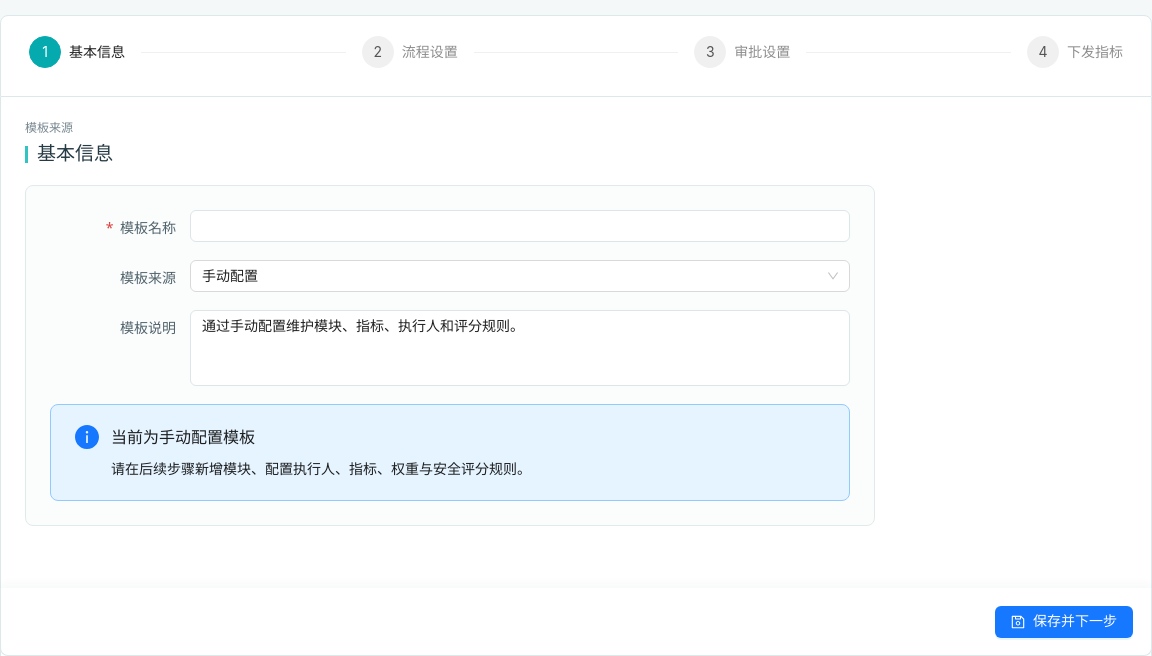
it: PerformanceTemplateEditorPage › keeps executor filters independent between process and approval settings
The width and height of the screenshot is (1152, 656).
Click the text "流程设置" at (438, 52), box [402,36,474,68]
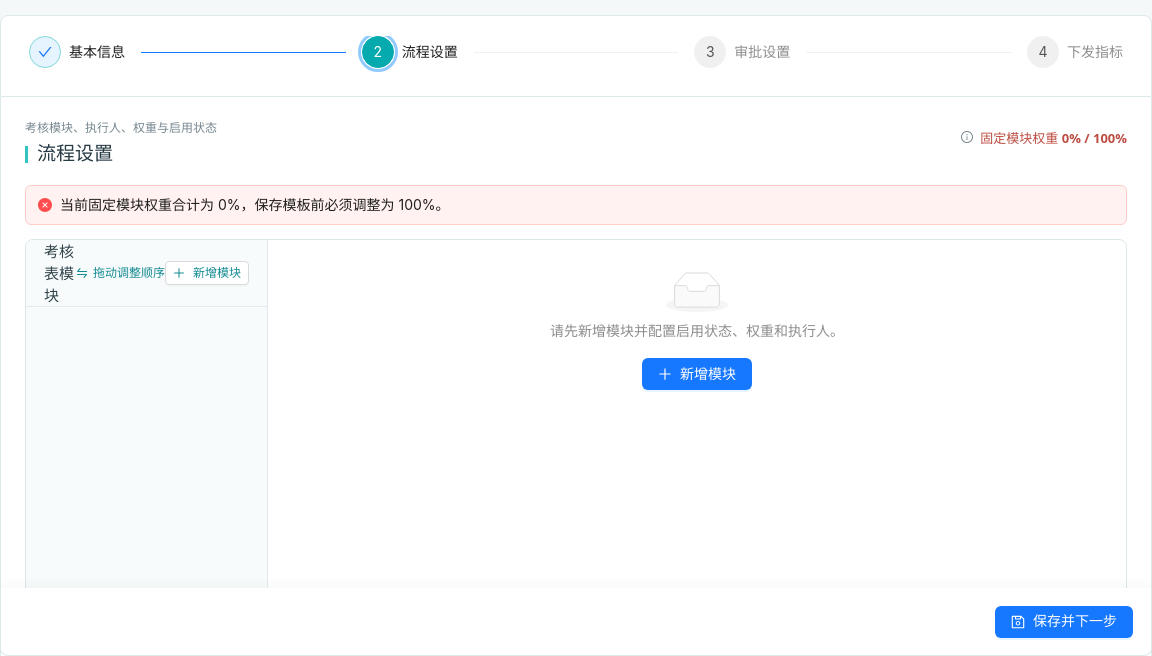
Click the button "新增模块" next to "拖动调整顺序" at (207, 273), box [165,261,249,285]
(page scrolled)
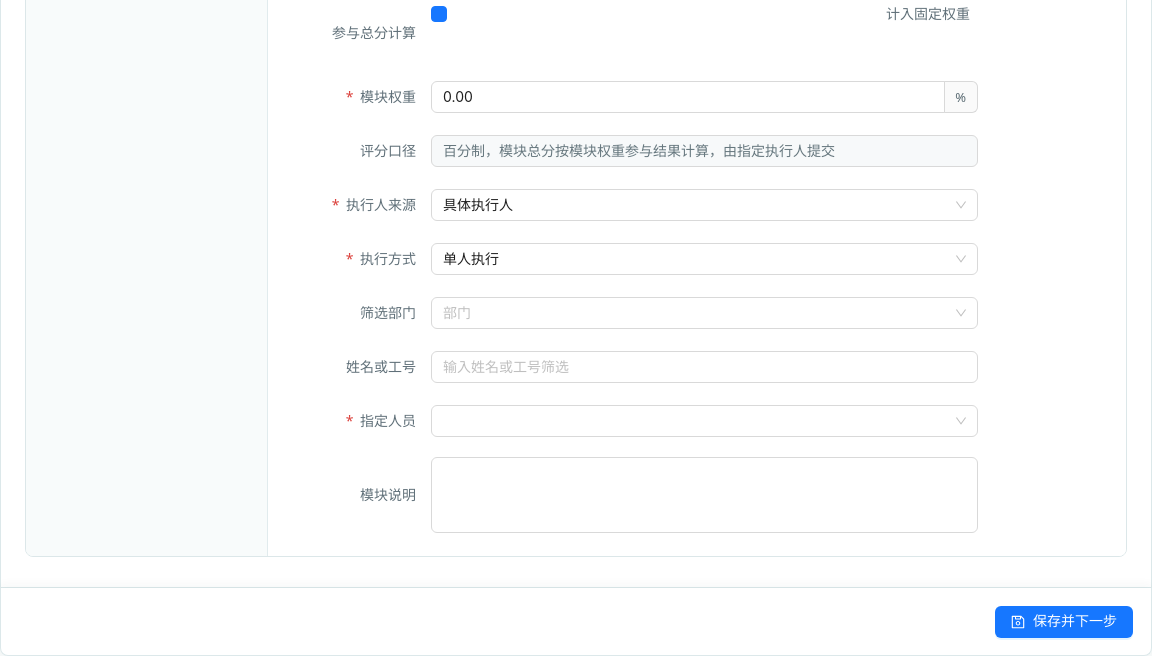
Type "甲" into the field named "搜索考核执行人" at (696, 367), box [443,356,950,378]
(page scrolled)
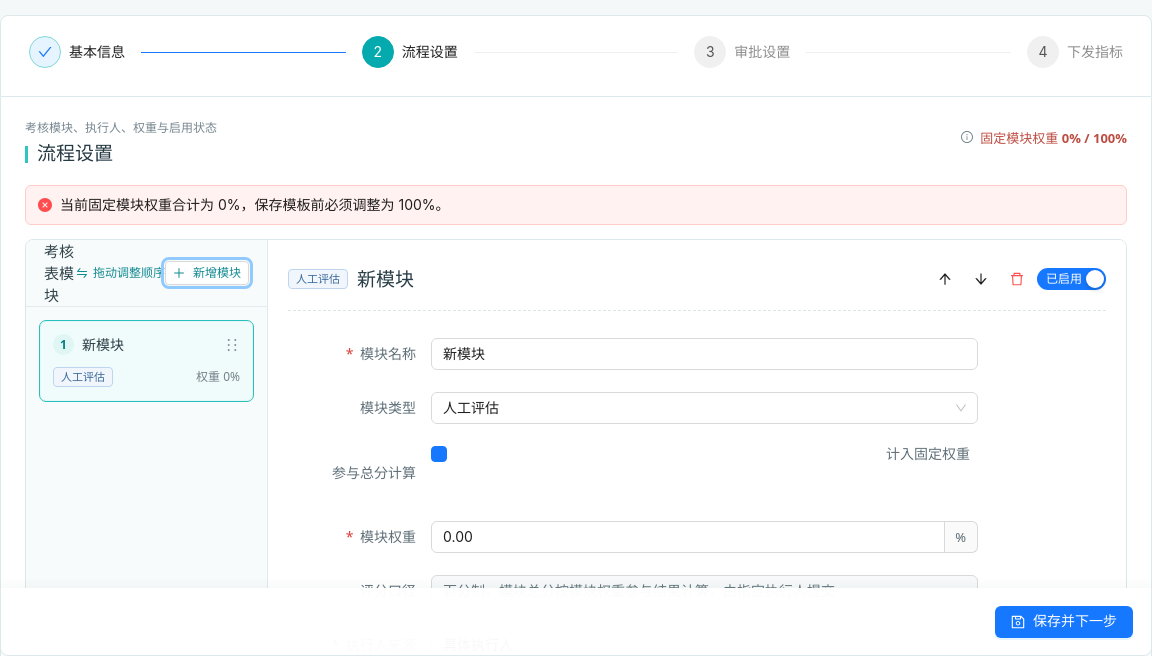
Click the text "审批设置" at (770, 52), box [734,36,806,68]
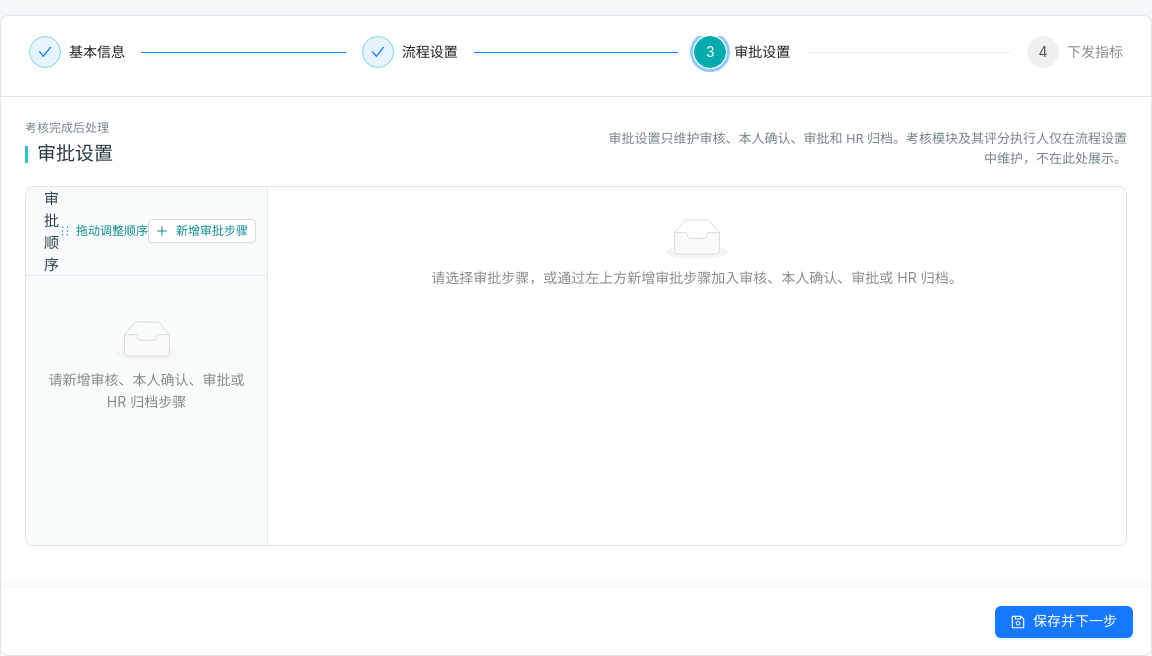
Click the button "新增审批步骤" at (202, 231), box [148,219,256,243]
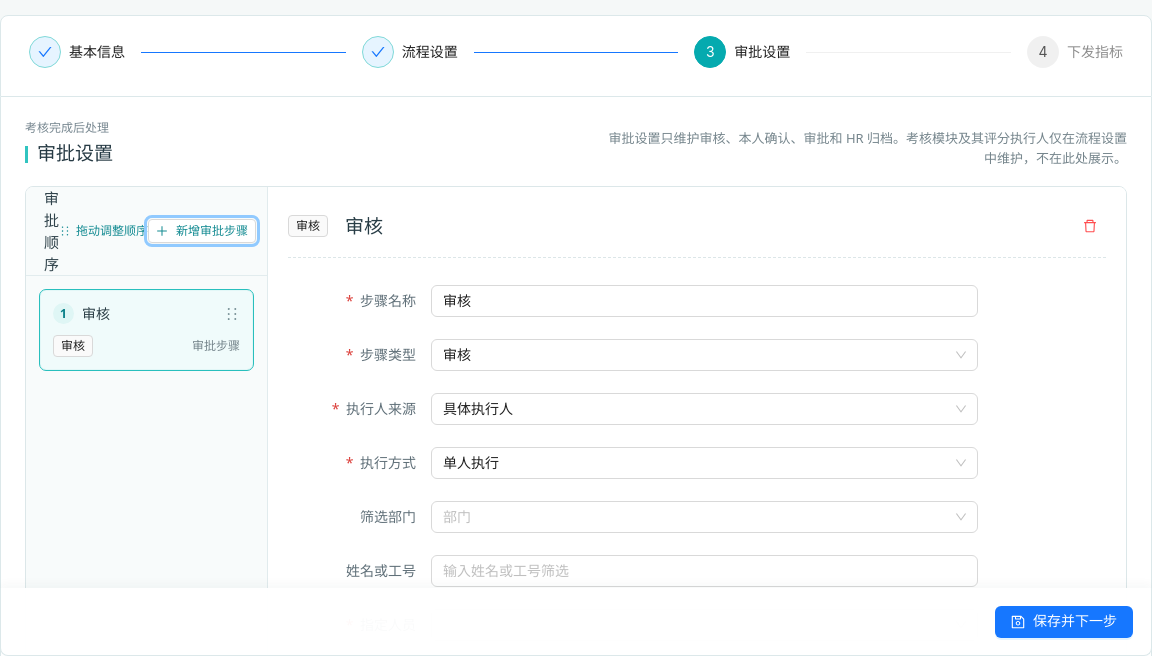
Type "乙" into the field named "搜索审批执行人" at (696, 571), box [443,560,950,582]
Click the button "流程设置" at (410, 52), box [362,36,458,68]
(page scrolled)
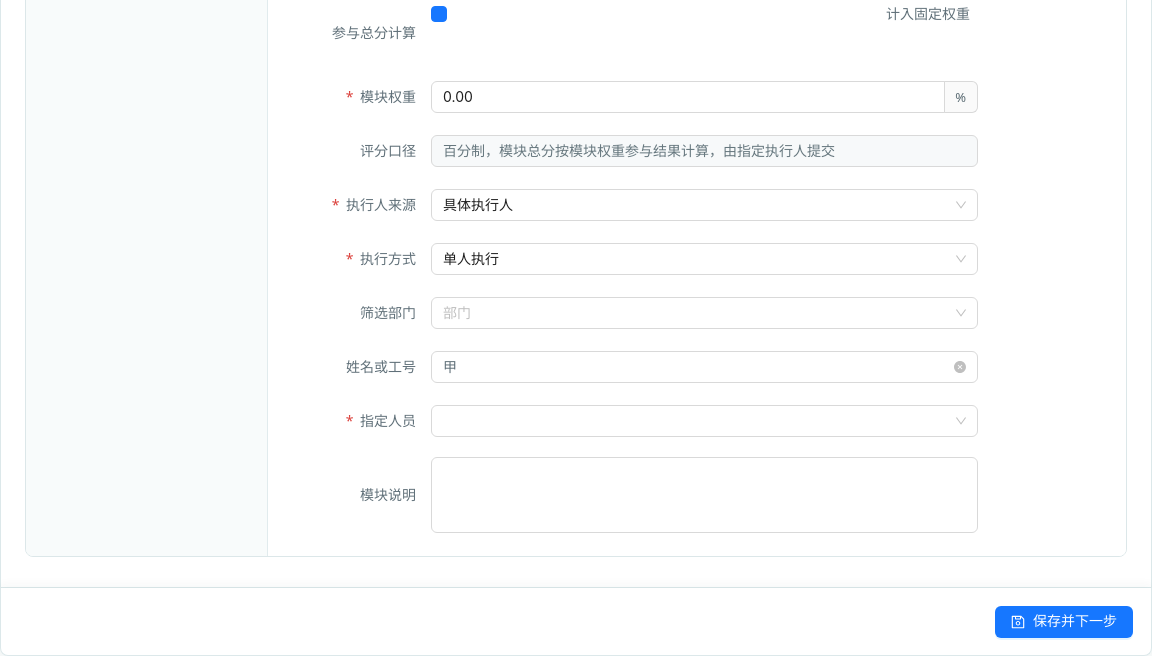
Expected: the field named "搜索考核执行人" holds "甲", [443,356,950,378]
